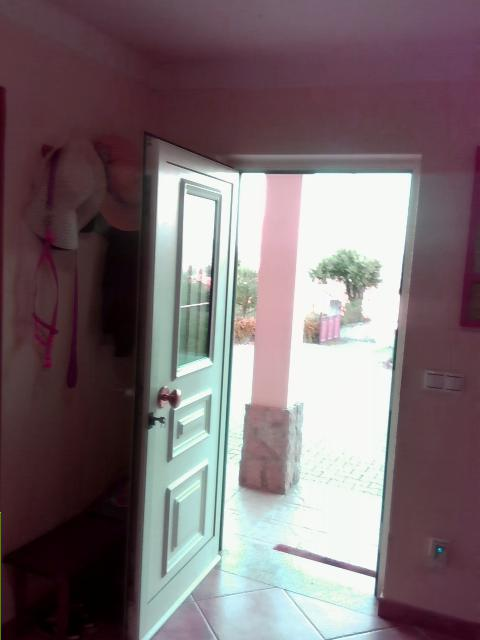open_door: (197, 149, 424, 603)
